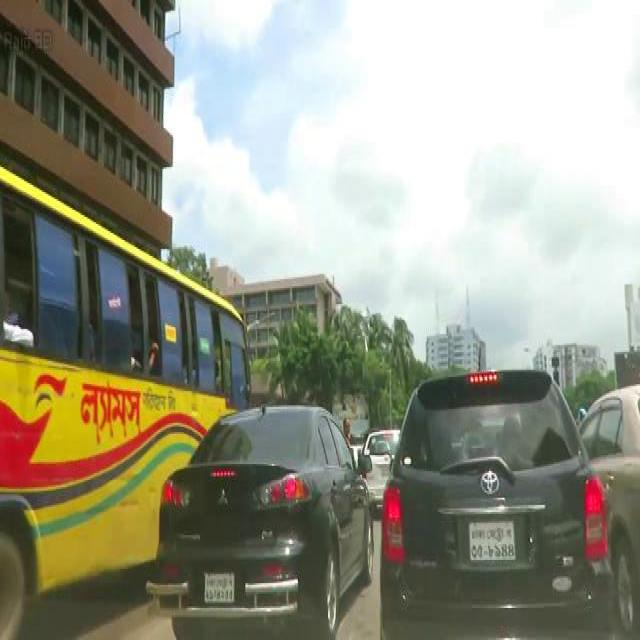vehicle: (1, 166, 252, 640), (378, 366, 616, 640), (145, 401, 375, 636)
